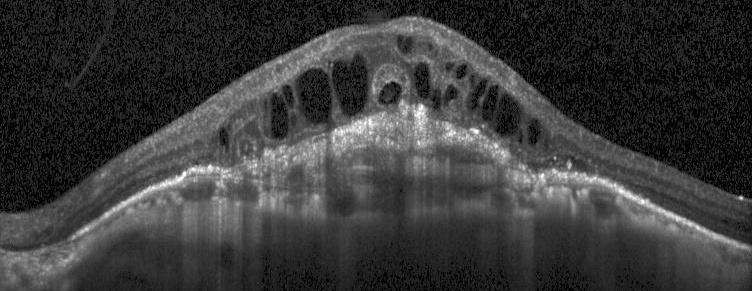intraretinal_cyst: (331, 53, 368, 117), (296, 66, 331, 123), (495, 93, 520, 135), (269, 92, 289, 141), (466, 79, 487, 110), (414, 62, 431, 98), (378, 81, 403, 105), (482, 85, 498, 121), (527, 118, 542, 144), (396, 35, 414, 56), (444, 84, 460, 107), (282, 85, 295, 108), (219, 127, 229, 152), (431, 88, 441, 109), (456, 63, 467, 79), (291, 111, 297, 127), (445, 62, 455, 71), (518, 129, 523, 146), (469, 74, 475, 85), (428, 43, 434, 51)
subretinal_hyperreflective_material: (226, 102, 546, 190)
